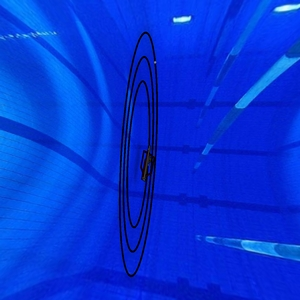circle: (117, 29, 162, 277)
submarine: (138, 144, 156, 183)
